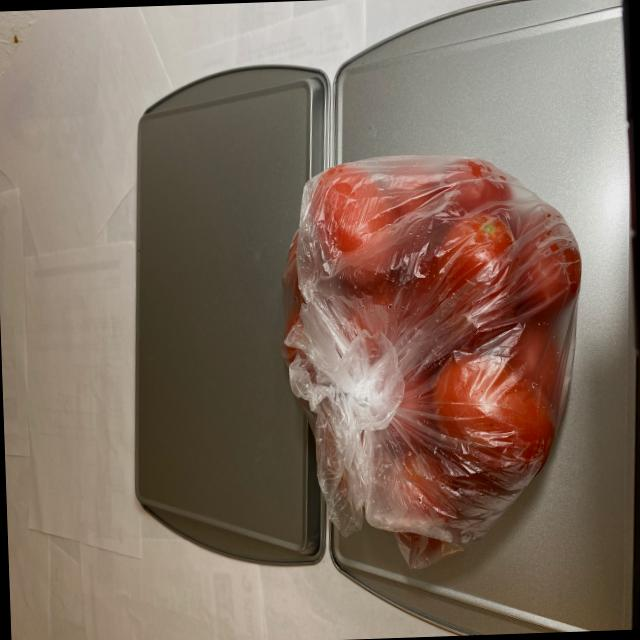tomato: (282, 150, 588, 560)
